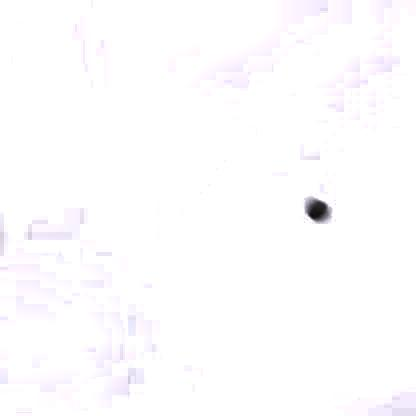golfball: (301, 198, 326, 220)
